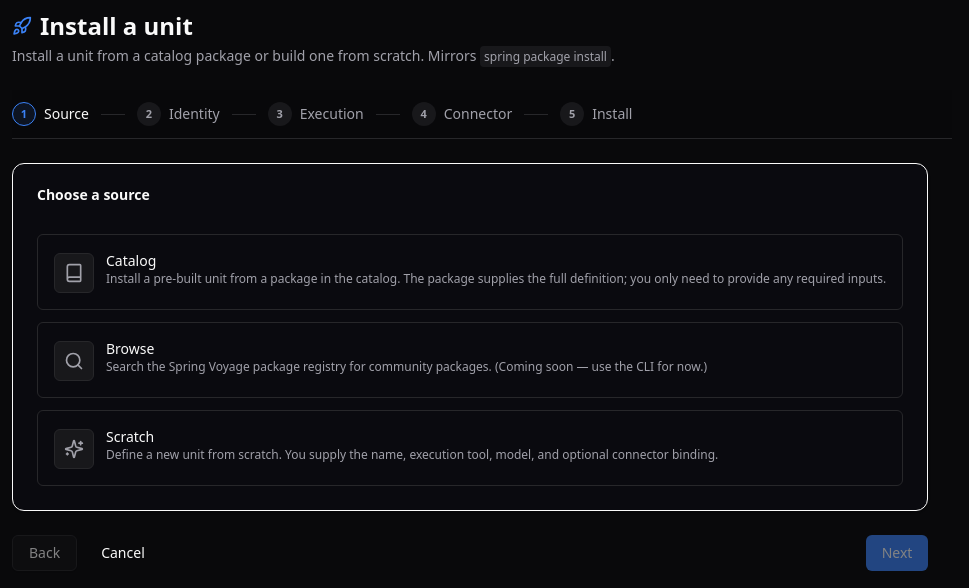
CreateUnitPage — step 1: Source selection (#1563) › advances to the catalog Package step when Catalog is selected
The width and height of the screenshot is (969, 588).
Click the button with test id "source-card-catalog": (470, 272) [37, 234, 903, 310]
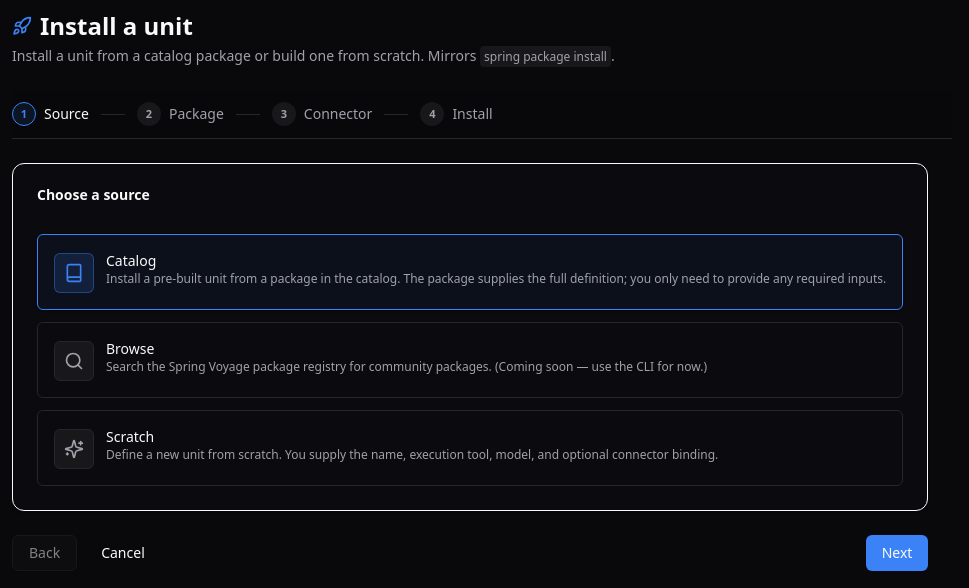
Click the button "Next": (897, 553) [866, 535, 928, 571]
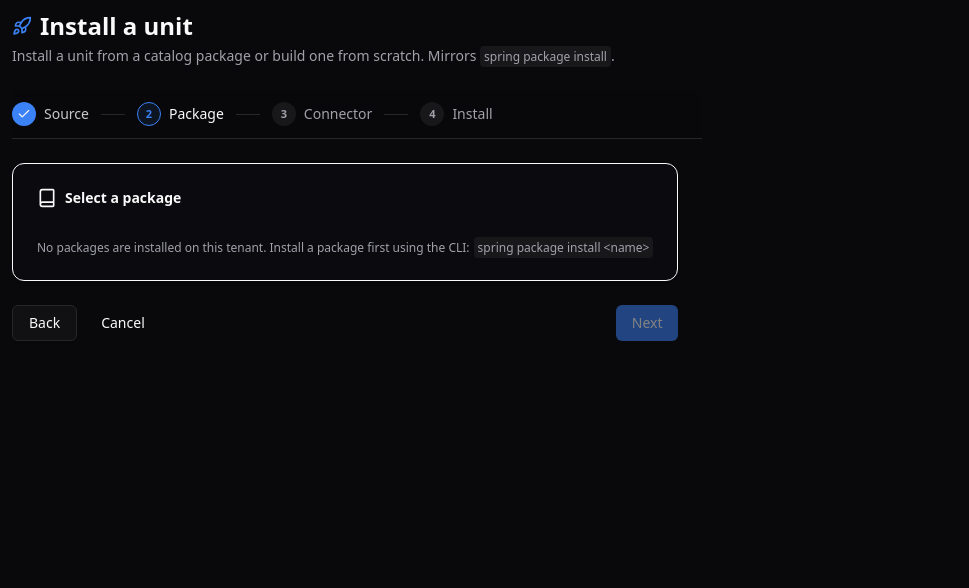
Result: the text "Select a package" is shown at [37, 188, 181, 208]
